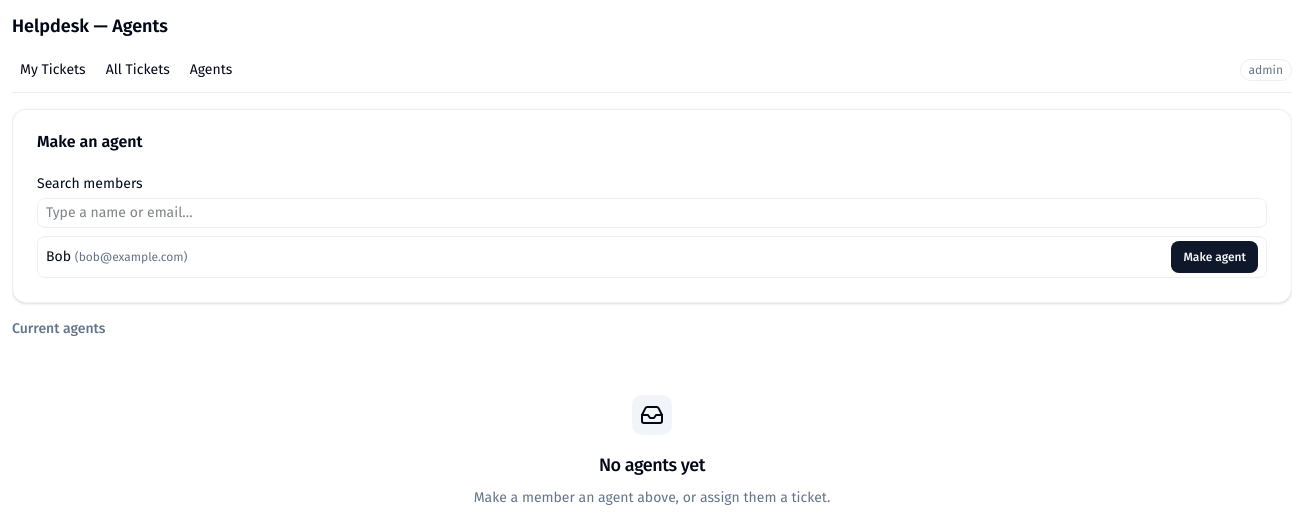
Test: AgentsAdminPage › makes a member an agent through the picker
Click the button with test id "helpdesk-make-agent-member-1" at (1215, 257), box left=1172, top=241, right=1258, bottom=273
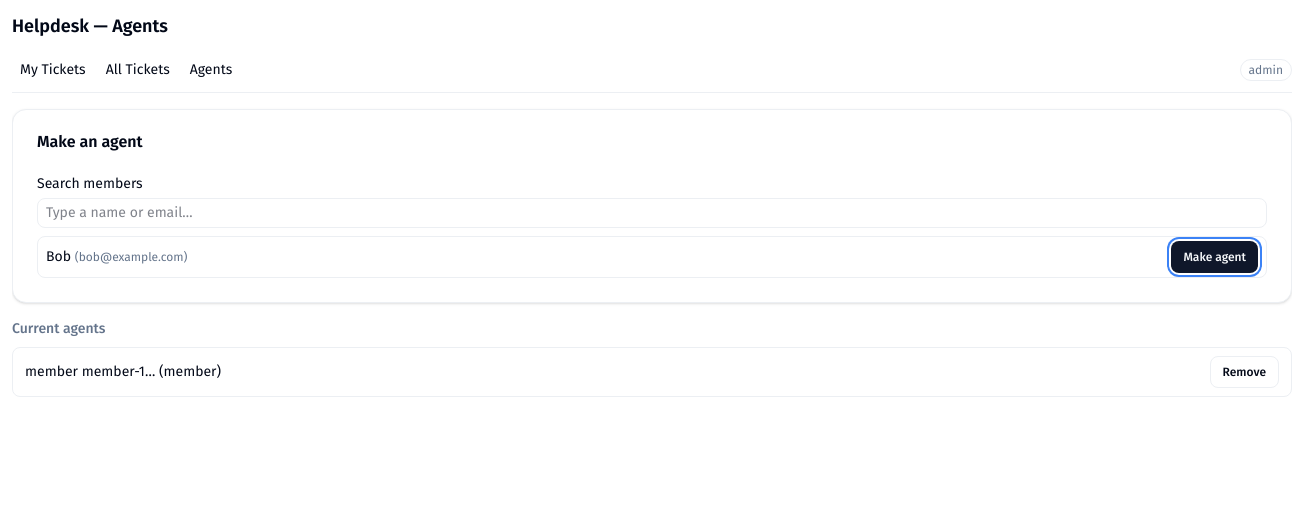
Check: the list item with test id "helpdesk-agent-member-1" is shown, box left=12, top=347, right=1291, bottom=397
